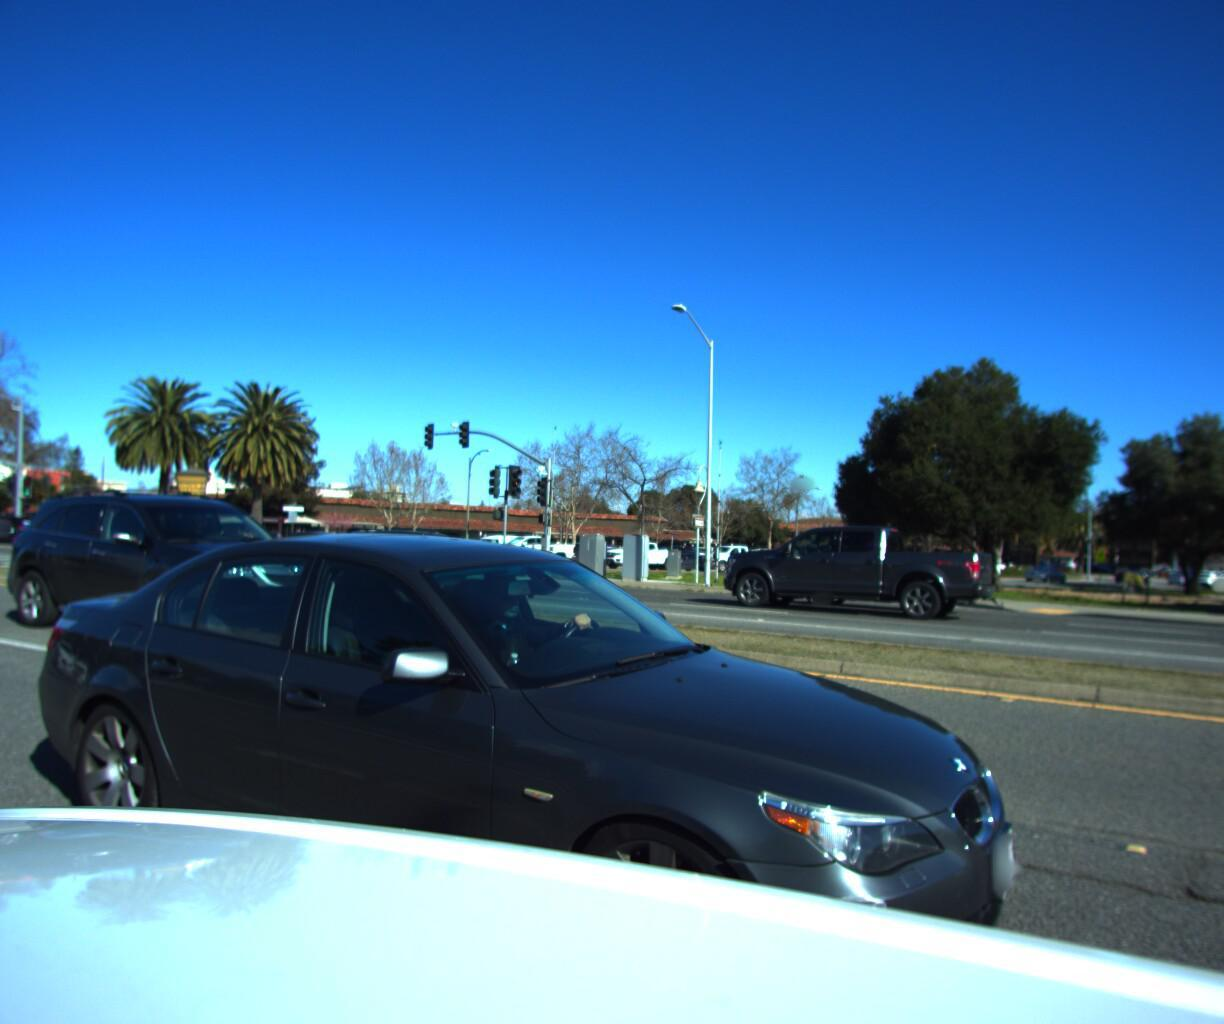car: (0, 517, 1003, 1024), (0, 479, 365, 659), (701, 517, 992, 618), (771, 529, 968, 612), (290, 518, 471, 586), (256, 521, 374, 567), (475, 526, 578, 561), (308, 522, 406, 558), (595, 532, 686, 564), (447, 527, 530, 561), (688, 537, 772, 568), (1015, 550, 1064, 573), (0, 506, 29, 543)
